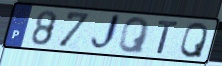7: (59, 10, 92, 49)
8: (30, 9, 58, 47)
J: (88, 12, 123, 53)
Q: (117, 16, 151, 54), (179, 21, 210, 59)
T: (156, 19, 181, 56)
